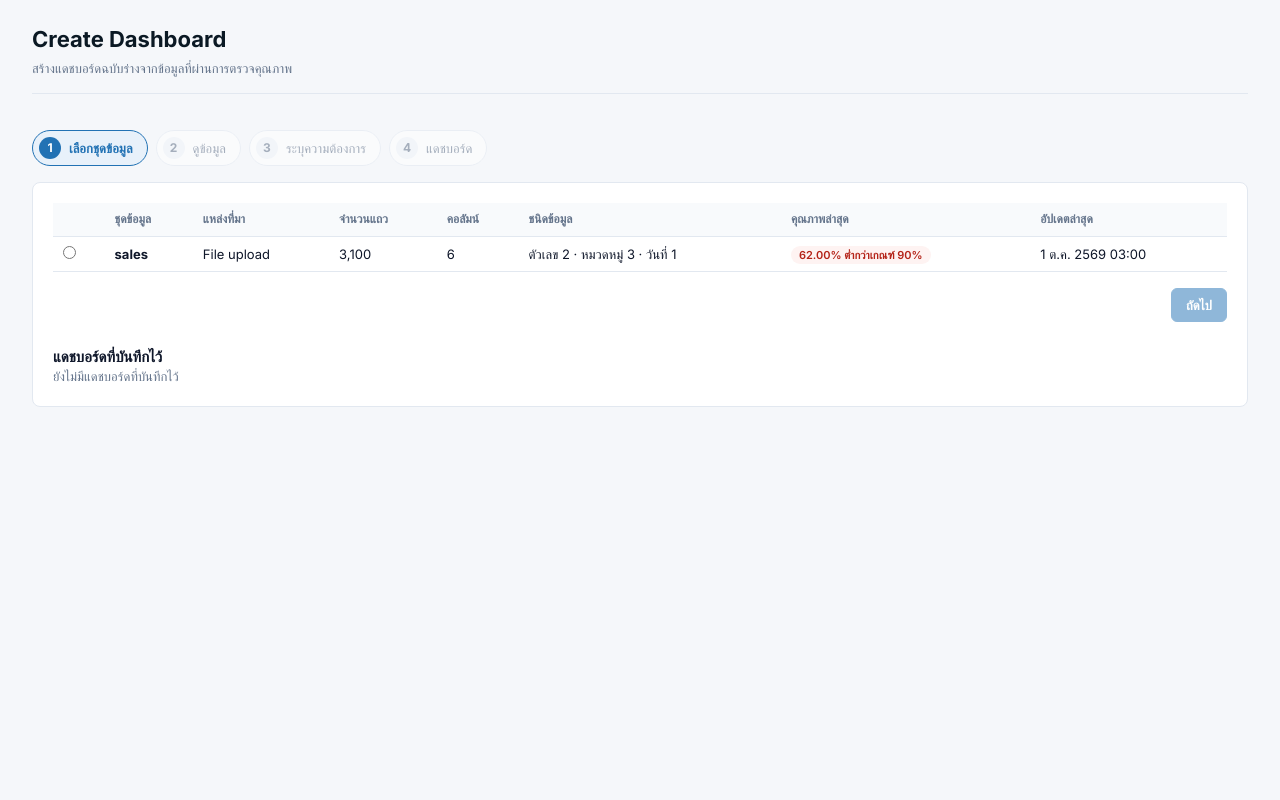
Test: warns on the preview when the latest quality run is below its threshold
This screenshot has width=1280, height=800.
Click the radio button named "เลือก sales": point(70, 252) [63,246,76,259]
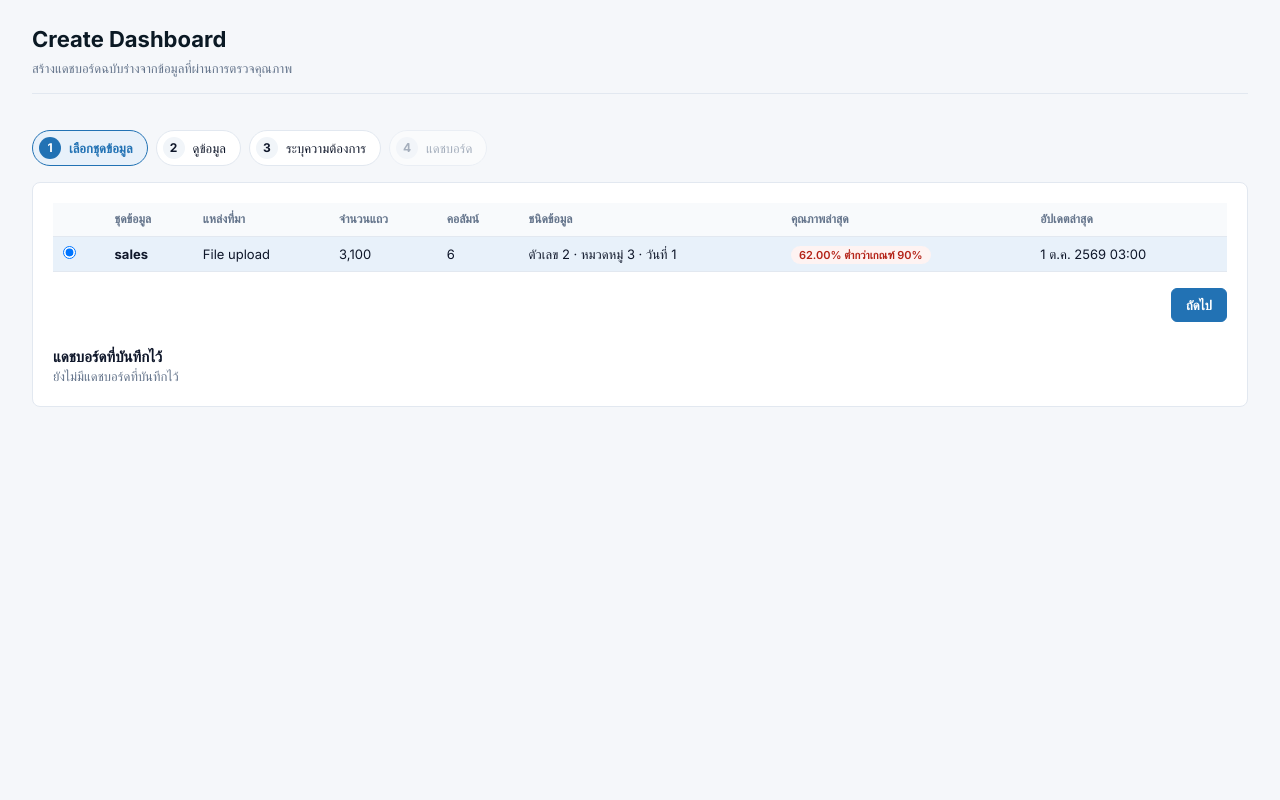
Click the button "ถัดไป": point(1199, 305) [1171,288,1227,322]
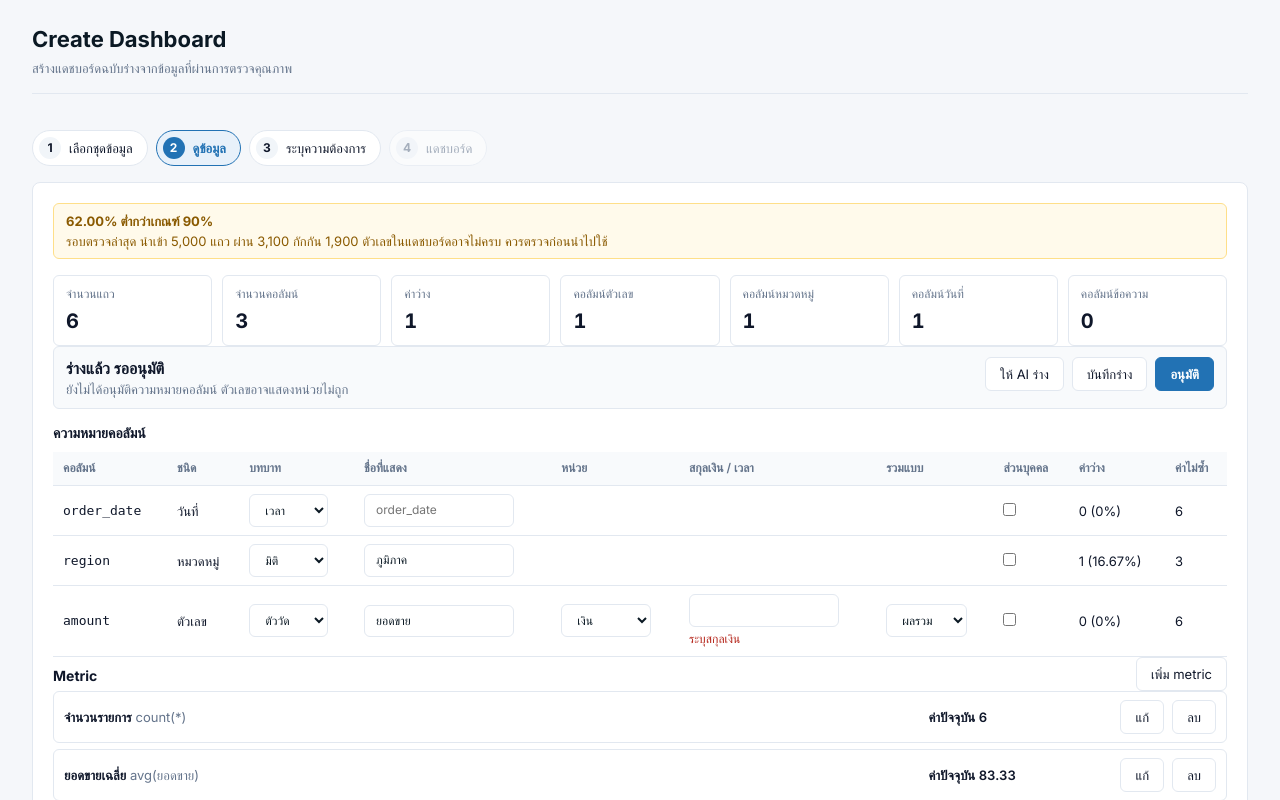
Expected: the element named "คุณภาพข้อมูล" does not show "สะสมข้อมูลหลายรอบ", [53,203,1227,259]
Now the element named "คุณภาพข้อมูล" shows "62.00% ต่ำกว่าเกณฑ์ 90%", box [66,213,213,229]
Now the element named "คุณภาพข้อมูล" shows "นำเข้า 5,000 แถว ผ่าน 3,100 กักกัน 1,900", box [136,233,359,249]
